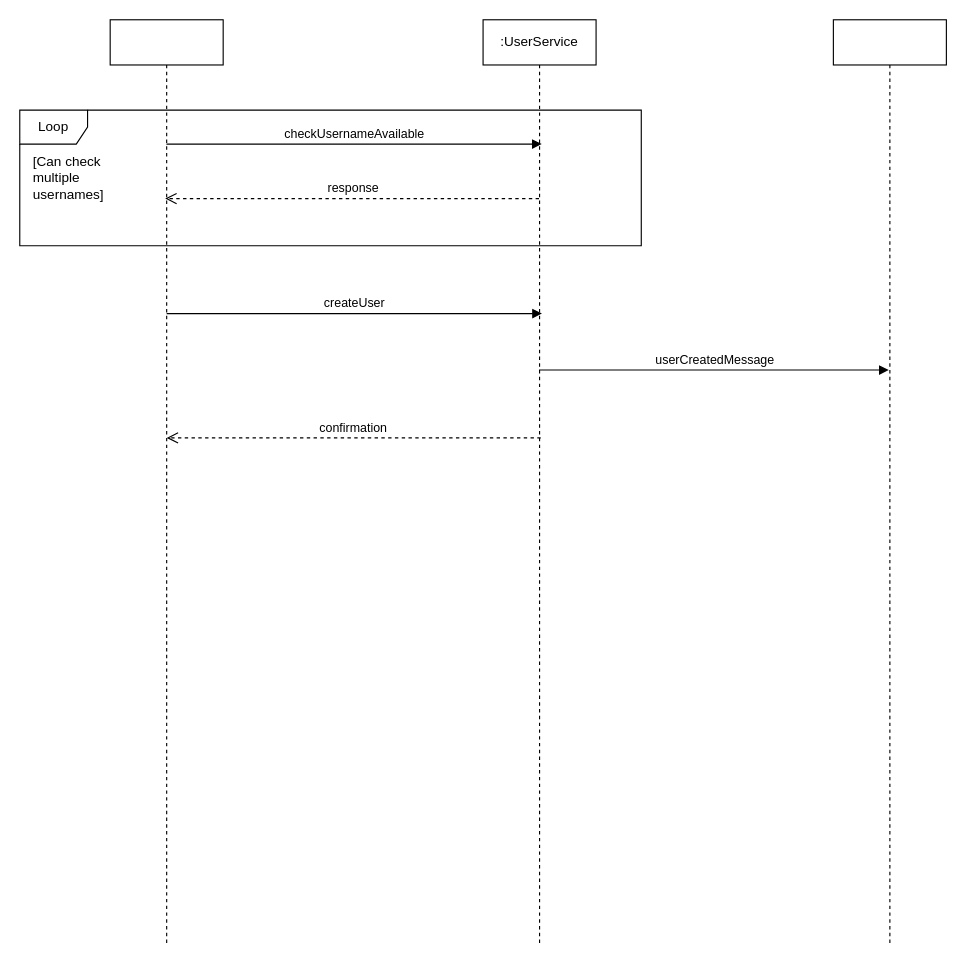
Some shapes in this 966 by 966 pixel diagram are drawn without their labels. Each missing label, with the box of its shape:
:MessageQueue: (832, 19, 946, 946)
:UnregisteredUser: (109, 19, 223, 946)
